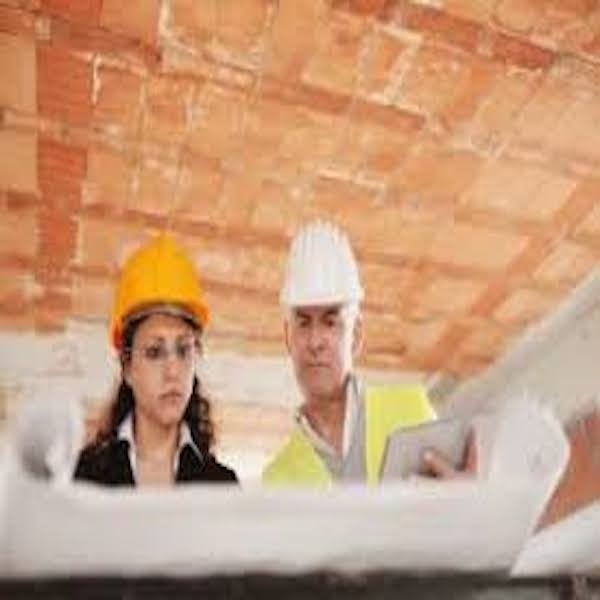helmet: (119, 235, 214, 321), (287, 220, 362, 312)
vest: (280, 383, 447, 482)
